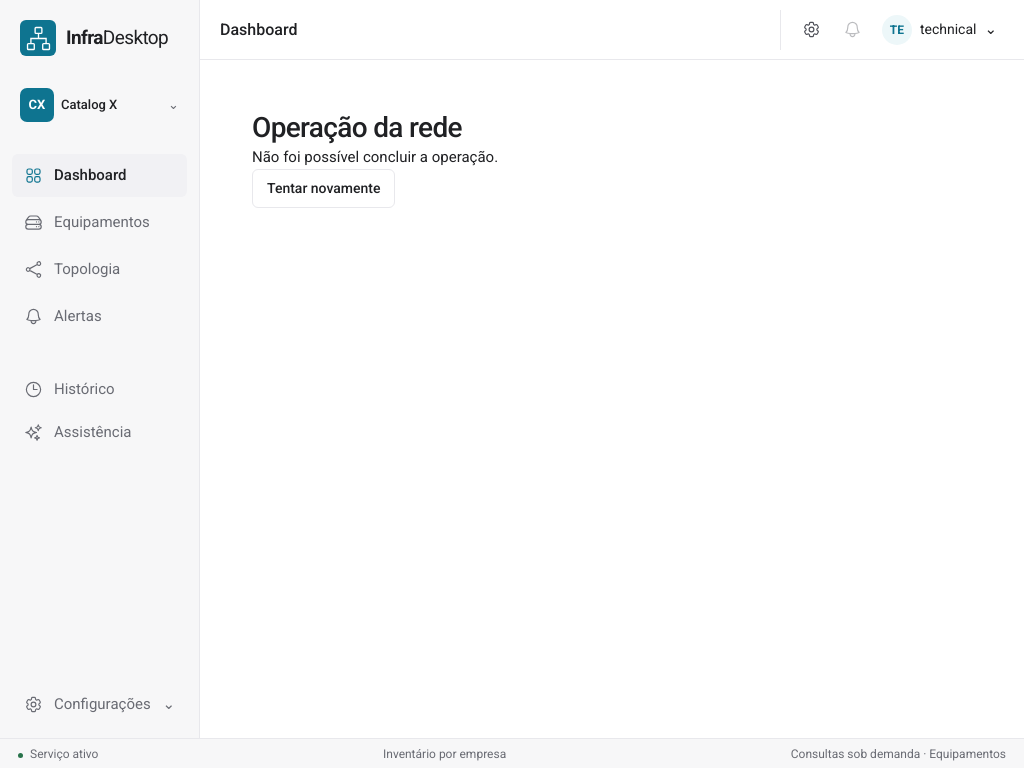
Test: loading and failed brand fetch have explicit retry and cannot discard an edited draft
The image size is (1024, 768).
Click the button named "Abrir configurações" at {"x": 811, "y": 30}, box [793,10,830,48]
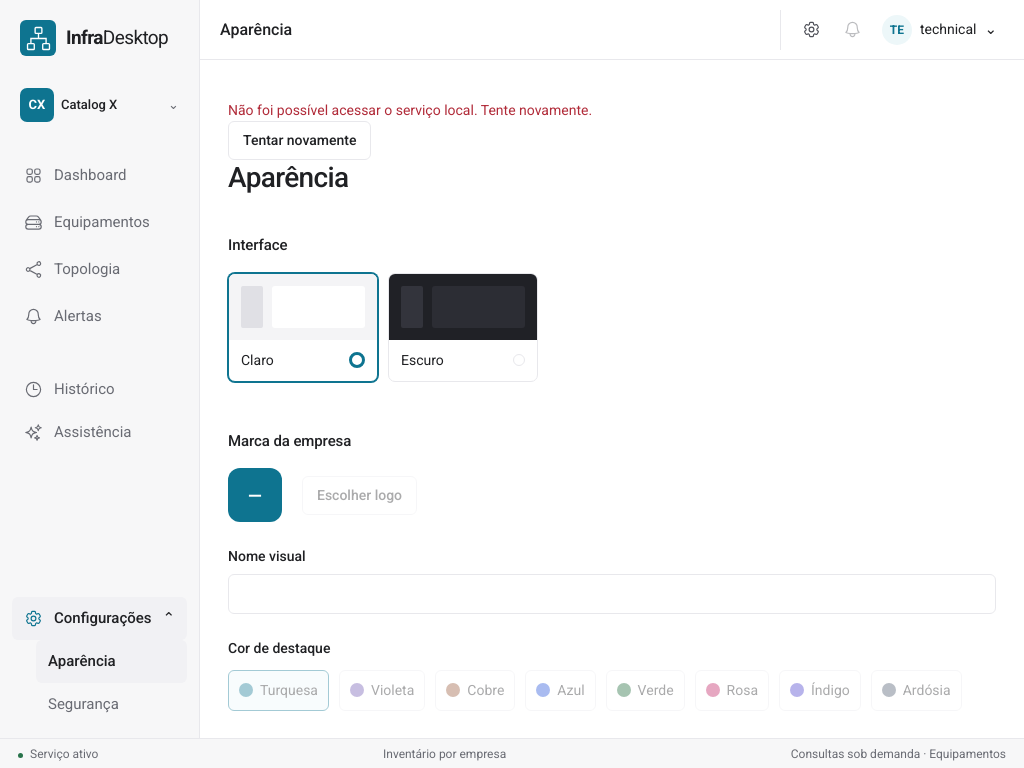
Now the message "Não foi possível acessar o serviço local. Tente novamente." is shown, box [228,102,592,118]
Click the button "Tentar novamente" at {"x": 300, "y": 140}, box [228,121,372,160]
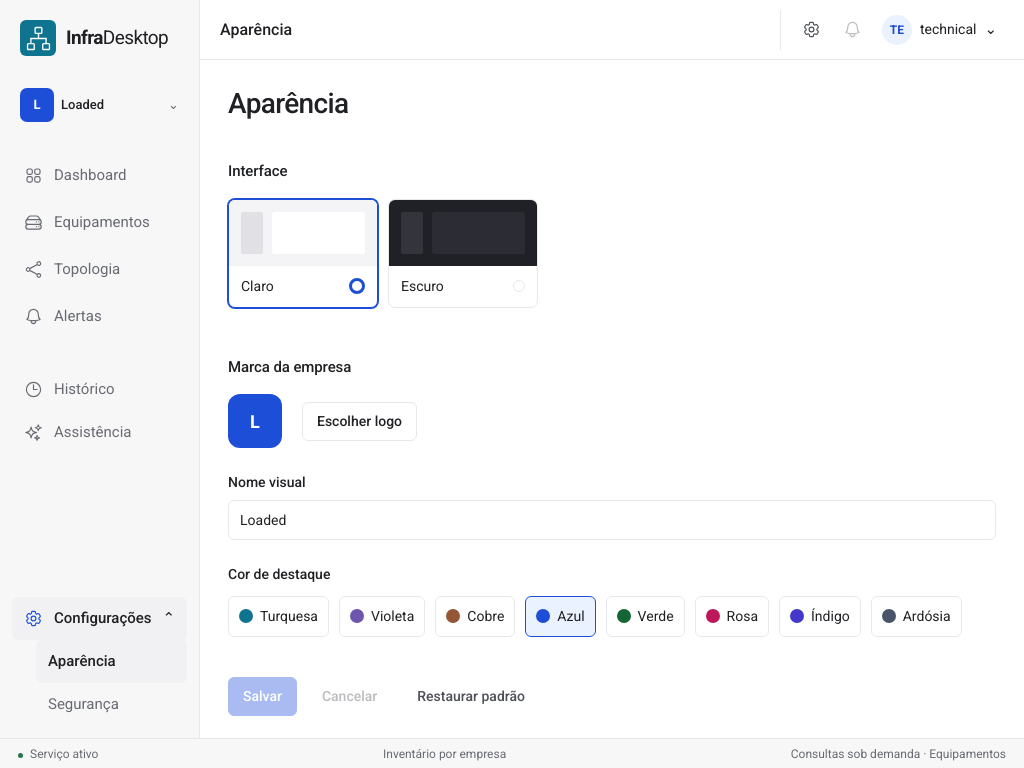
Now the field labelled "Nome visual" is enabled, box [228,500,996,540]
Now the field labelled "Nome visual" holds "Loaded", box [228,500,996,540]
